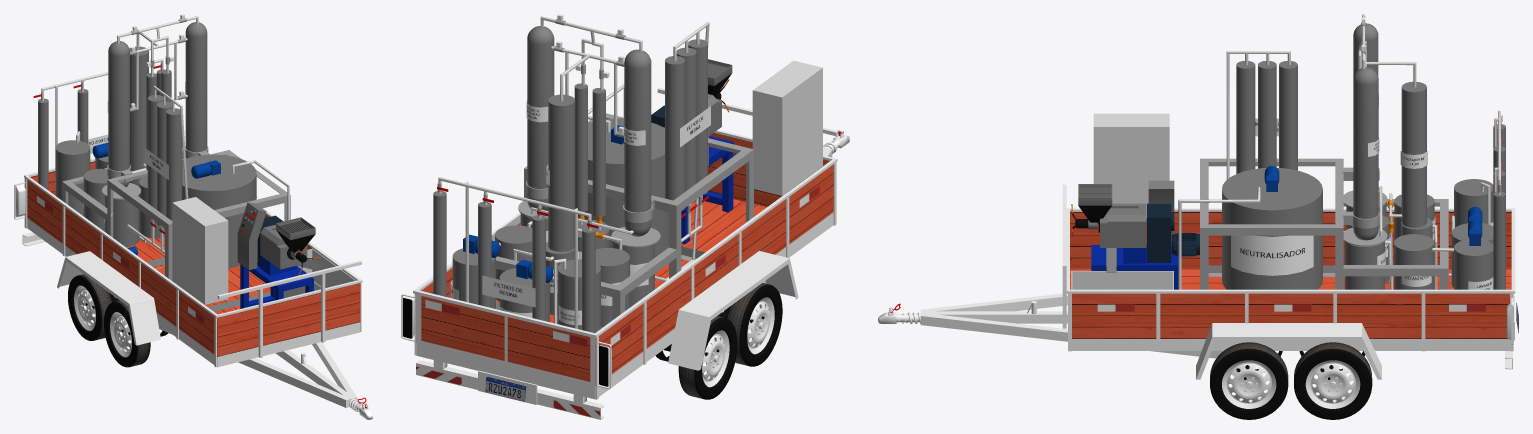
File: Carretinha.fbx
The picture shows the model from 3 angles, left to right: view 1: azimuth 30°, elevation 25°; view 2: azimuth 150°, elevation 25°; view 3: azimuth 270°, elevation 25°; orthographic projection. The views are drawn at different scales.
Visible parts, largest first — view 1: Box114, Box156, Box155, NEUTRALISADOR001, Object027, Capsule003, Capsule004, Box132, Superior, Cylinder2257, Cylinder2269, Cylinder2248 (+25 smaller); view 2: Box114, Box156, Box155, Object027, Capsule004, Cylinder2257, Capsule003, NEUTRALISADOR001, Superior, Cylinder2246, ChamferCyl008, ChamferCyl010 (+35 smaller); view 3: Box114, NEUTRALISADOR001, Box155, Box156, Box132, Capsule003, Object026, Cylinder2257, Superior, Cylinder2245, ChamferCyl011, ChamferCyl009 (+21 smaller).
Boxes of the visible parts, x1,y1,x2,y2 form: Box114: (27, 161, 360, 367); Box156: (172, 197, 228, 304); Box155: (62, 150, 290, 311); NEUTRALISADOR001: (182, 154, 256, 268); Object027: (57, 251, 160, 345); Capsule003: (185, 22, 207, 158); Capsule004: (108, 41, 129, 187); Box132: (158, 324, 357, 407); Superior: (24, 149, 362, 317); Cylinder2257: (129, 46, 148, 171); Cylinder2269: (55, 140, 90, 215); Cylinder2248: (166, 108, 182, 220); Box114: (416, 133, 833, 399); Box156: (752, 60, 822, 195); Box155: (491, 113, 753, 320); Object027: (668, 251, 798, 370); Capsule004: (624, 49, 651, 236); Cylinder2257: (548, 94, 575, 251); Capsule003: (527, 26, 554, 210); NEUTRALISADOR001: (578, 118, 668, 256); Superior: (413, 130, 837, 337); Cylinder2246: (665, 56, 685, 210); ChamferCyl008: (726, 283, 782, 366); ChamferCyl010: (678, 316, 737, 399); Box114: (1070, 211, 1511, 350); NEUTRALISADOR001: (1222, 168, 1322, 289); Box155: (1200, 158, 1448, 289); Box156: (1093, 113, 1169, 218); Box132: (920, 293, 1222, 358); Capsule003: (1353, 67, 1378, 240); Object026: (1196, 323, 1381, 379); Cylinder2257: (1401, 81, 1426, 227); Superior: (1066, 208, 1515, 293); Cylinder2245: (1231, 235, 1313, 275); ChamferCyl011: (1294, 342, 1372, 419); ChamferCyl009: (1210, 342, 1288, 419).
Size of the model in its own units: 207 by 293 by 508.
